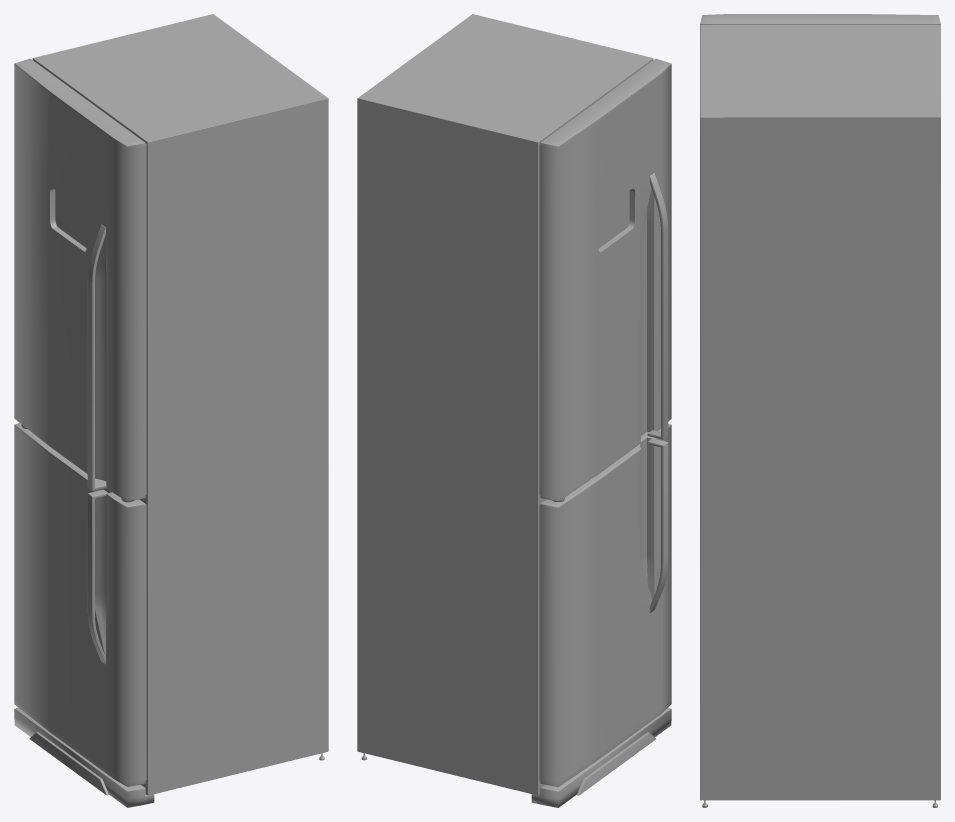
The model's file is Refrigerator (2).fbx.
The picture shows the model from 3 angles, left to right: view 1: azimuth 30°, elevation 25°; view 2: azimuth 150°, elevation 25°; view 3: azimuth 270°, elevation 25°; orthographic projection. The views are drawn at different scales.
Parts seen in each view (by area): view 1: Electrolux French Door Refrigerator; view 2: Electrolux French Door Refrigerator; view 3: Electrolux French Door Refrigerator.
Part boxes in pixels (x1,y1,x2,y2): Electrolux French Door Refrigerator: (14, 14, 328, 807); Electrolux French Door Refrigerator: (357, 14, 671, 807); Electrolux French Door Refrigerator: (700, 14, 940, 807).
Bounding box in the file's own units: 65 × 190 × 60.
Materials: 1 (1 with a texture image).
